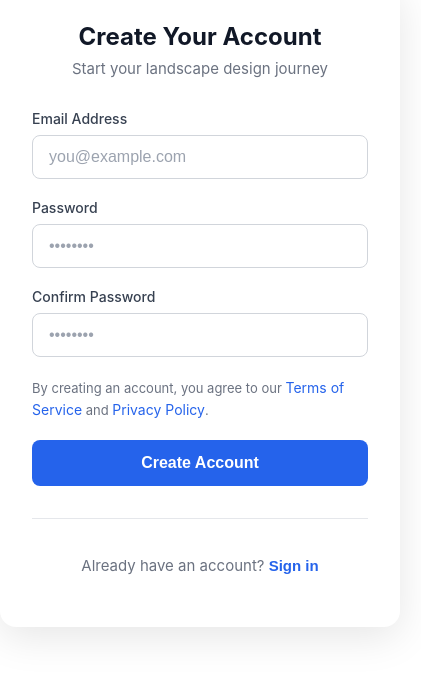
Test: Password Strength Indicator › should show medium strength for decent password
The image size is (421, 685).
In the password field labelled "Password": (200, 246) [32,224,368,268], type "Password1"
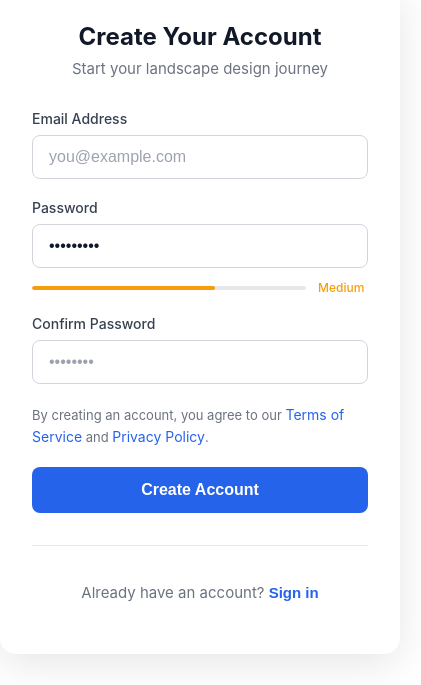
Expected: the text "Medium" is shown, [318,280,368,295]
